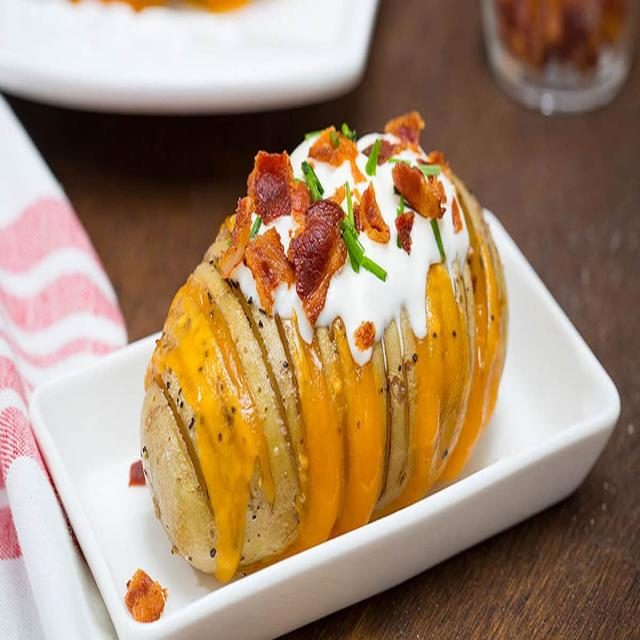papa: (140, 101, 525, 574)
